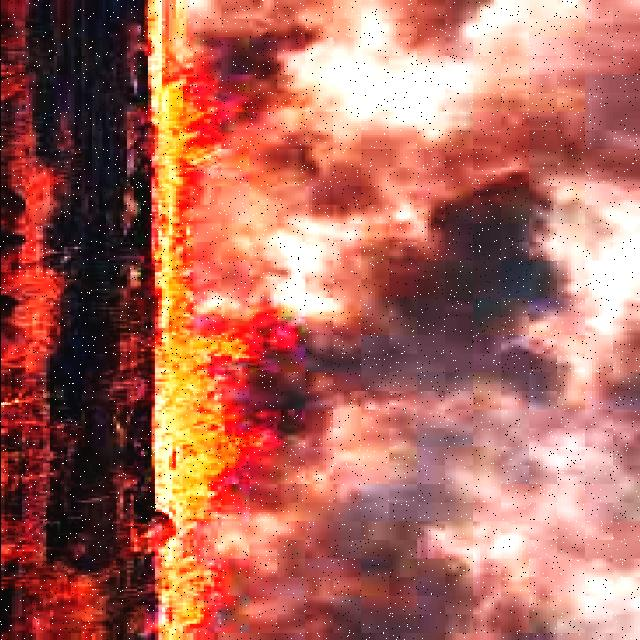api: (161, 379, 233, 522), (157, 523, 219, 640), (161, 320, 291, 368), (164, 172, 198, 318), (163, 85, 221, 167), (223, 428, 267, 457)
asap: (296, 1, 639, 640), (223, 93, 310, 321), (224, 471, 306, 639), (166, 1, 302, 87), (239, 371, 303, 426)
